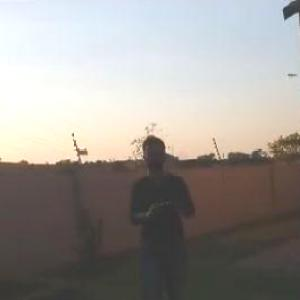follow: (121, 134, 199, 299)
